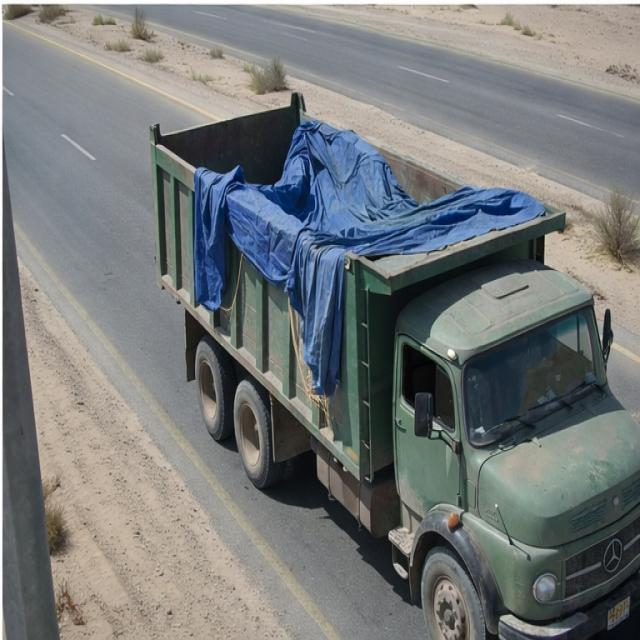trailer: (150, 93, 570, 290)
truck: (138, 68, 640, 639)
